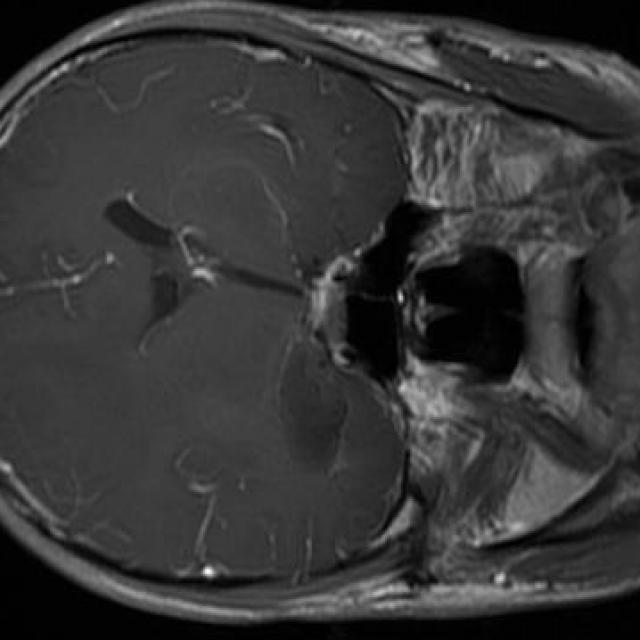glioma: (280, 344, 348, 476)
